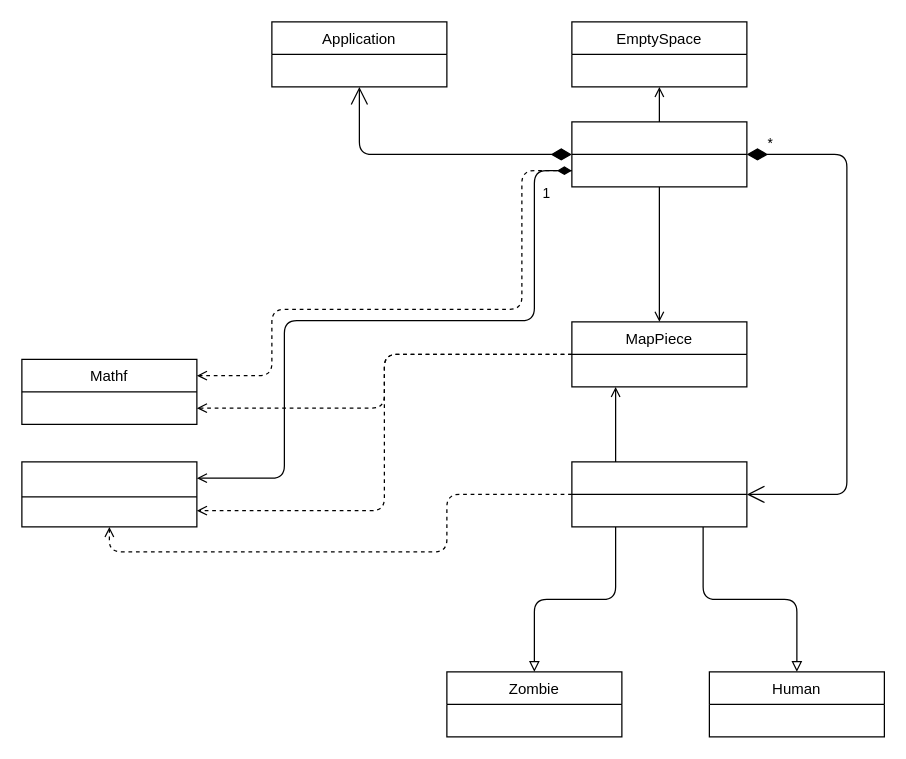
Image size: 906x759. Some labels were removed from this diagram. Here are the shapes that lost their labels. From the top down, the box of each, then its label:
(571, 121, 747, 187): Map
(21, 461, 197, 527): Vector2
(571, 461, 747, 527): Agents
